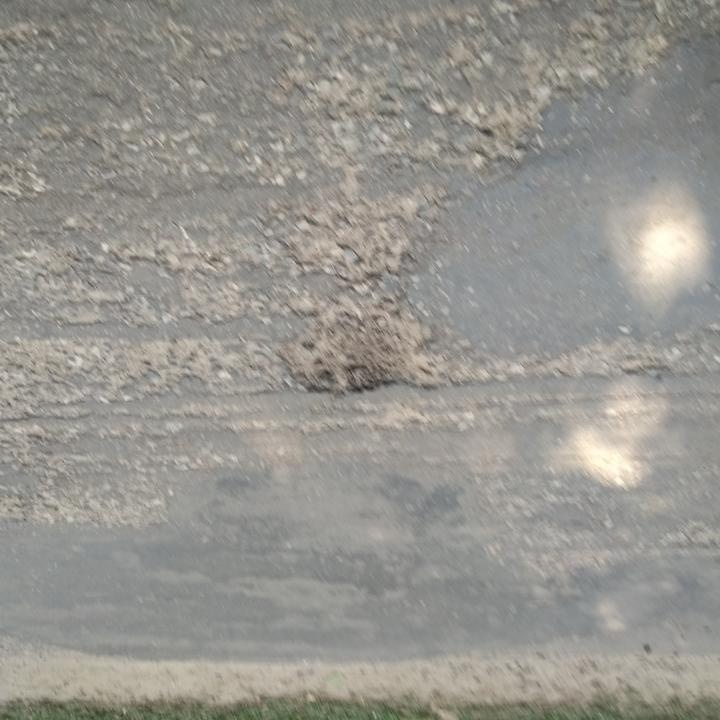pothole: (278, 294, 445, 403)
